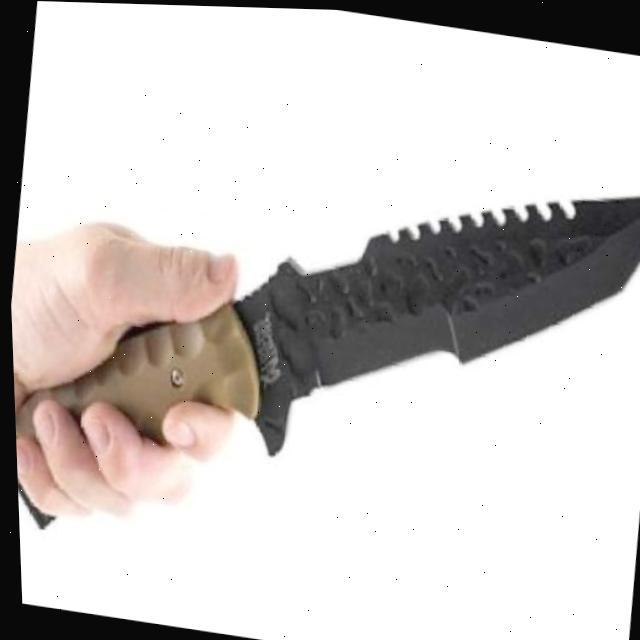knife: (3, 95, 640, 615)
